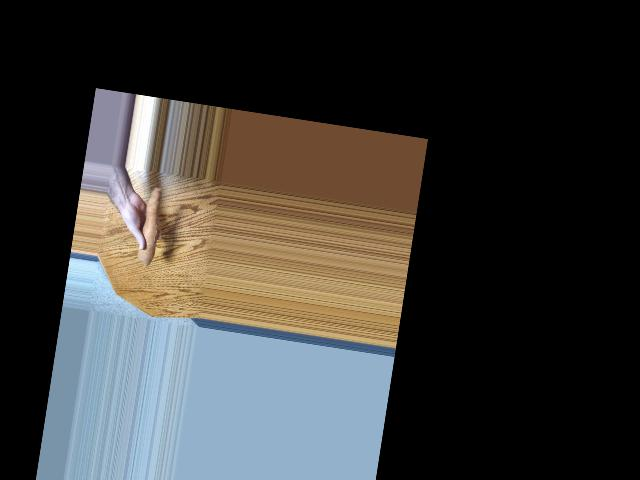sweet_potato: (133, 185, 167, 263)
